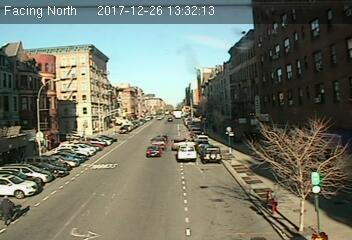bicycle: (1, 194, 22, 226)
car: (201, 145, 221, 164), (145, 145, 162, 158), (151, 137, 165, 145)
truck: (177, 144, 196, 163)
